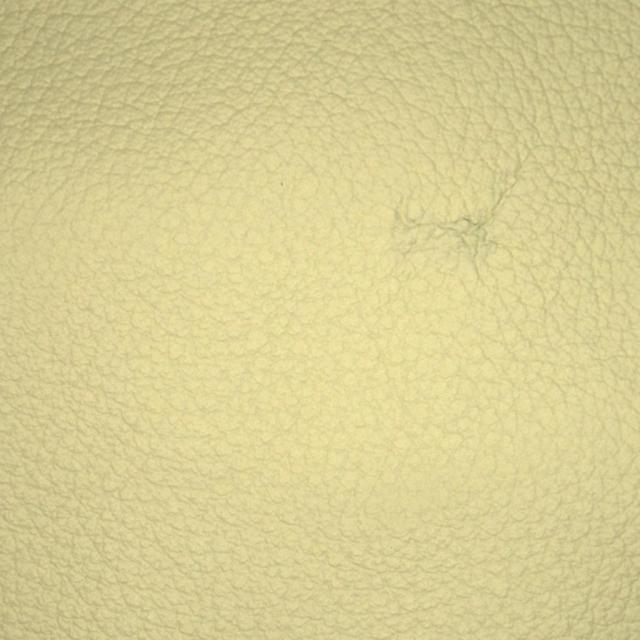Scratch: (334, 131, 584, 344)
